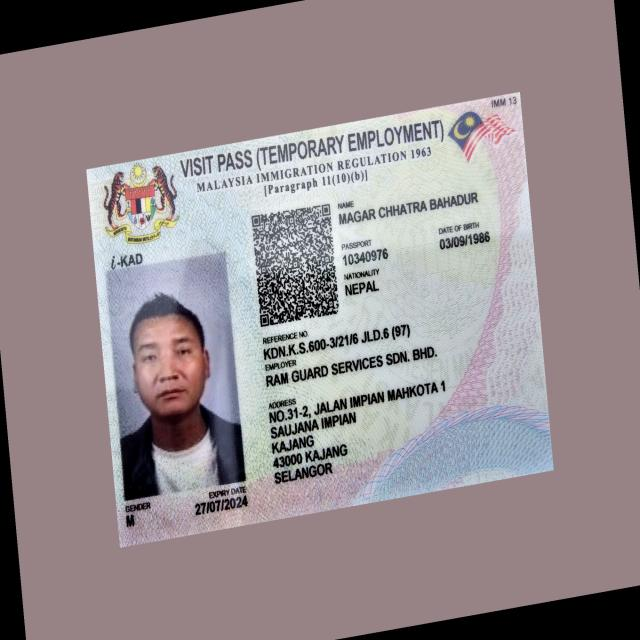ikad-temp: (85, 90, 555, 547)
